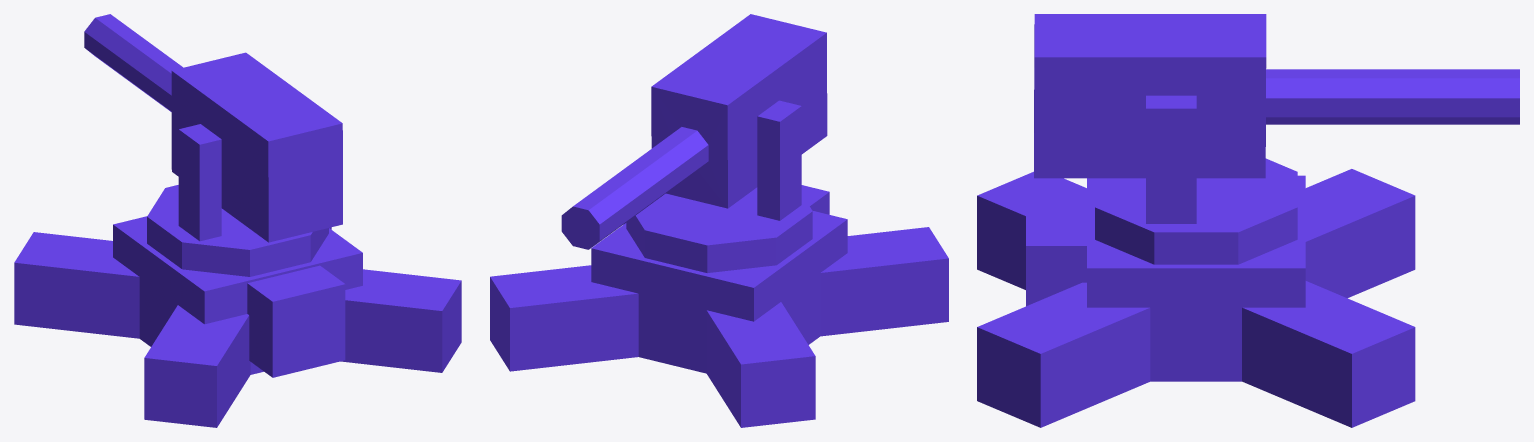
The model's file is TurretHitbox.fbx.
The picture shows the model from 3 angles, left to right: view 1: azimuth 30°, elevation 25°; view 2: azimuth 150°, elevation 25°; view 3: azimuth 270°, elevation 25°; orthographic projection. The views are drawn at different scales.
Visible parts, largest first — view 1: Cube.057, Cube.055, Cube.056; view 2: Cube.057, Cube.055, Cube.056; view 3: Cube.057, Cube.055, Cube.056.
Part boxes in pixels (x1,y1,x2,y2): Cube.057: (14,216,461,427); Cube.055: (84,14,342,242); Cube.056: (147,124,328,276); Cube.057: (490,185,948,427); Cube.055: (561,14,827,249); Cube.056: (626,100,812,272); Cube.057: (977,169,1415,427); Cube.055: (1034,14,1519,178); Cube.056: (1095,95,1297,264).
Bounding box in the file's own units: 141 × 107 × 175.
